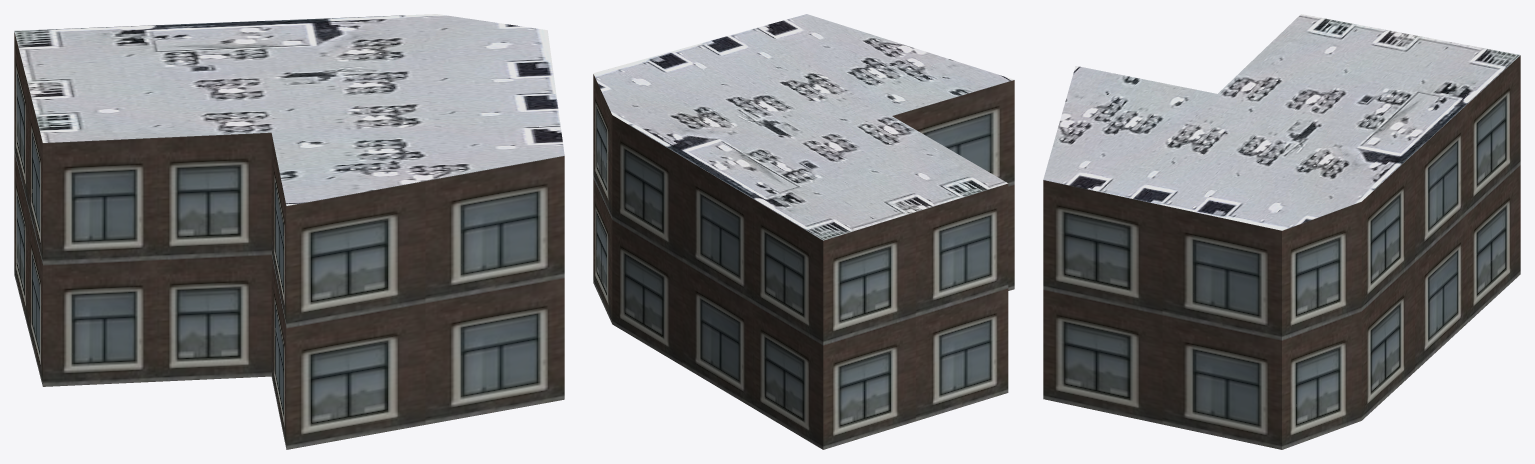
File: ResTex__4064.fbx
3 views of the same model, side by side, from view 1: azimuth 30°, elevation 25°; view 2: azimuth 150°, elevation 25°; view 3: azimuth 270°, elevation 25° (orthographic). The views are drawn at different scales.
Visible parts, largest first — view 1: CityEngineMaterial_16_m, CityEngineMaterial_15_m; view 2: CityEngineMaterial_16_m, CityEngineMaterial_15_m; view 3: CityEngineMaterial_16_m, CityEngineMaterial_15_m.
Boxes of the visible parts, bbox=[...] form: CityEngineMaterial_16_m: bbox=[14, 32, 564, 449]; CityEngineMaterial_15_m: bbox=[14, 14, 564, 205]; CityEngineMaterial_16_m: bbox=[593, 74, 1014, 449]; CityEngineMaterial_15_m: bbox=[593, 14, 1014, 240]; CityEngineMaterial_16_m: bbox=[1043, 55, 1520, 449]; CityEngineMaterial_15_m: bbox=[1043, 14, 1520, 230].
Bounding box in the file's own units: 12.72 × 6 × 11.85.
2 materials, 2 textured.
